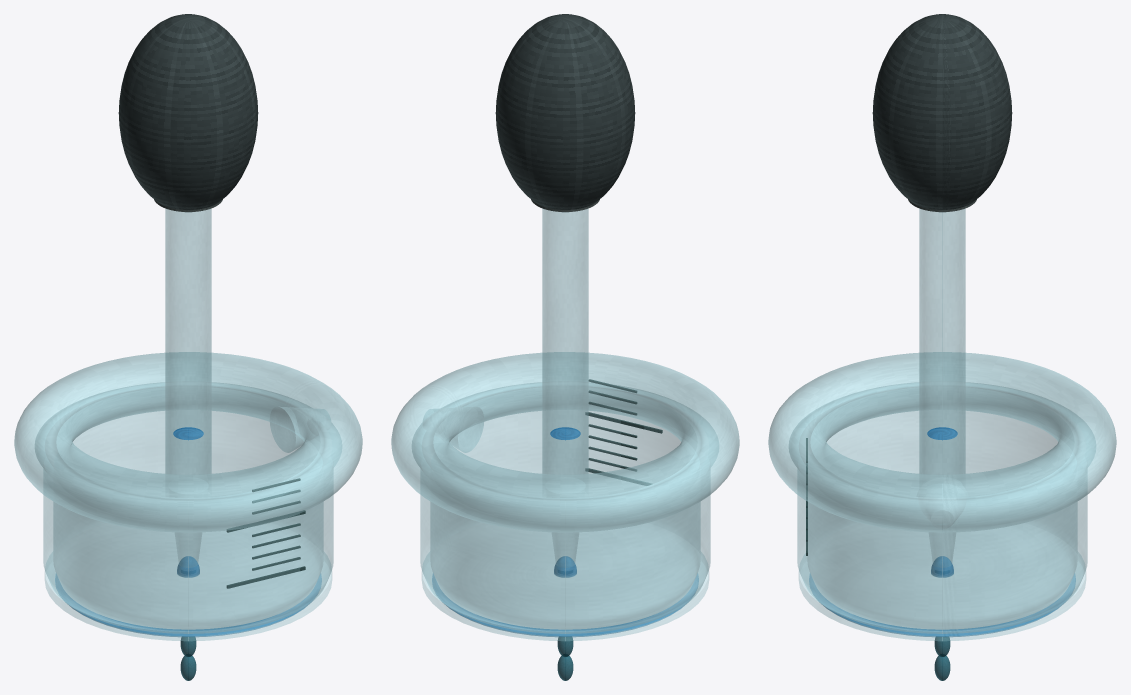
File: alat-16.glb
The picture shows the model from 3 angles, left to right: view 1: azimuth 30°, elevation 25°; view 2: azimuth 150°, elevation 25°; view 3: azimuth 270°, elevation 25°; orthographic projection.
Parts seen in each view (by area): view 1: beaker-6, torus-8, dropperBulb-0, tube-2, cylinder-7, liquidSurface-20, cone-9, cone-3; view 2: beaker-6, torus-8, dropperBulb-0, tube-2, cylinder-7, liquidSurface-20, cone-9, cone-3; view 3: beaker-6, torus-8, dropperBulb-0, tube-2, cylinder-7, liquidSurface-20, cone-9, cone-3.
Part boxes in pixels (box(x1,y1,x2,y2)): beaker-6: box(35, 382, 341, 633); torus-8: box(14, 352, 362, 532); dropperBulb-0: box(118, 14, 258, 212); tube-2: box(165, 208, 211, 493); cylinder-7: box(45, 552, 331, 641); liquidSurface-20: box(56, 575, 320, 636); cone-9: box(269, 406, 330, 452); cone-3: box(175, 532, 201, 567); beaker-6: box(412, 382, 718, 633); torus-8: box(391, 352, 739, 532); dropperBulb-0: box(495, 14, 635, 212); tube-2: box(542, 208, 588, 493); cylinder-7: box(422, 552, 708, 641); liquidSurface-20: box(433, 575, 697, 636); cone-9: box(423, 406, 484, 452); cone-3: box(552, 532, 578, 567); beaker-6: box(789, 382, 1095, 633); torus-8: box(768, 352, 1116, 532); dropperBulb-0: box(872, 14, 1012, 212); tube-2: box(919, 208, 965, 486); cylinder-7: box(799, 552, 1085, 641); liquidSurface-20: box(810, 575, 1074, 636); cone-9: box(917, 478, 967, 528); cone-3: box(929, 532, 955, 567).
Size of the model in its own units: 2.4 by 5.03 by 2.4.
26 materials, 26 textured.
